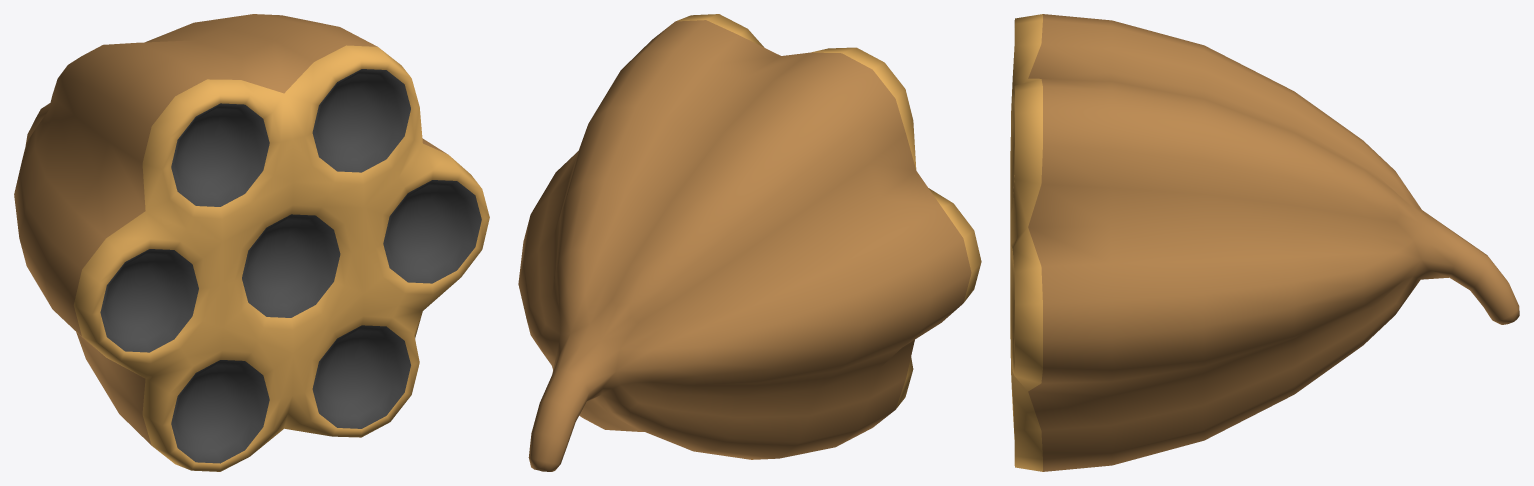
File: WaspNest.fbx
3 renders of one model, left to right at view 1: azimuth 30°, elevation 25°; view 2: azimuth 150°, elevation 25°; view 3: azimuth 270°, elevation 25°, orthographic. The views are drawn at different scales.
Parts seen in each view (by area): view 1: WaspNest; view 2: WaspNest; view 3: WaspNest.
Part boxes in pixels (<box>): WaspNest: <box>14,14,489,471</box>; WaspNest: <box>518,14,981,471</box>; WaspNest: <box>1010,14,1519,471</box>.
Bounding box in the file's own units: 18.47 × 16.79 × 20.46.
